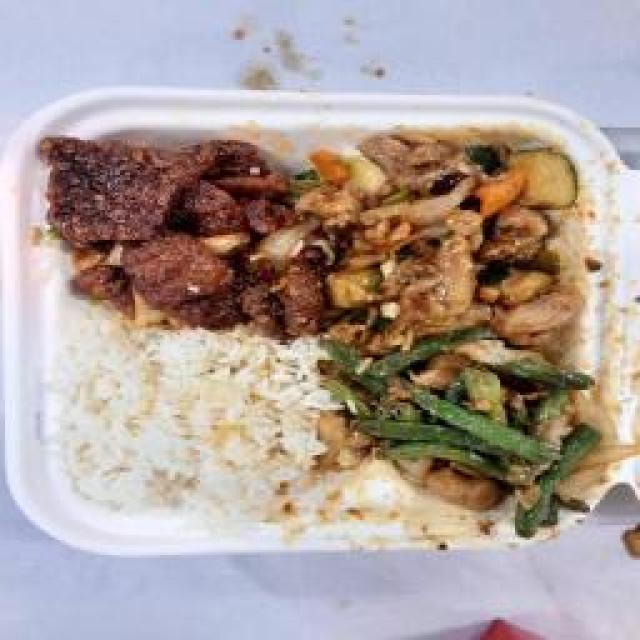Wet Waste: (298, 123, 580, 335), (40, 128, 312, 330), (55, 328, 327, 528), (345, 328, 613, 522)
